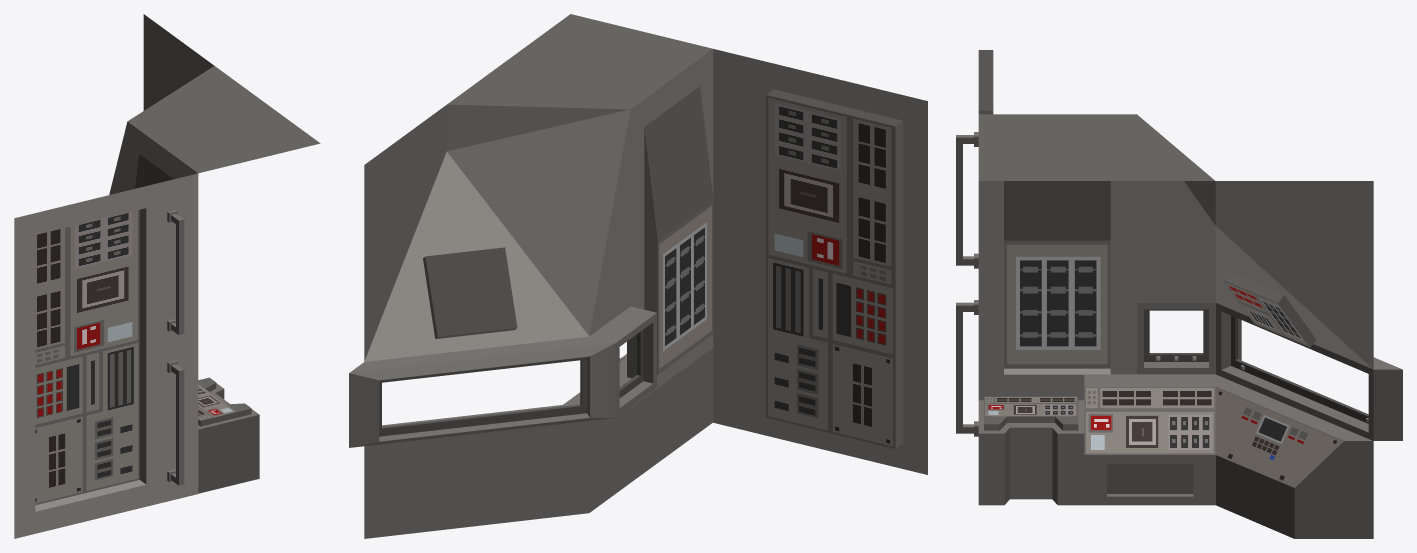
File: KONSOL_2.fbx
3 views of the same model, side by side, from view 1: azimuth 30°, elevation 25°; view 2: azimuth 150°, elevation 25°; view 3: azimuth 270°, elevation 25° (orthographic). The views are drawn at different scales.
Visible parts, largest first — view 1: SM_Env_Consoles_Corner_01; view 2: SM_Env_Consoles_Corner_01; view 3: SM_Env_Consoles_Corner_01.
Boxes of the visible parts, <box> form: SM_Env_Consoles_Corner_01: <box>14,14,320,538</box>; SM_Env_Consoles_Corner_01: <box>349,14,927,538</box>; SM_Env_Consoles_Corner_01: <box>956,50,1402,538</box>.
Bounding box in the file's own units: 5 × 5 × 5.65.
Materials: 1 (1 with a texture image).
